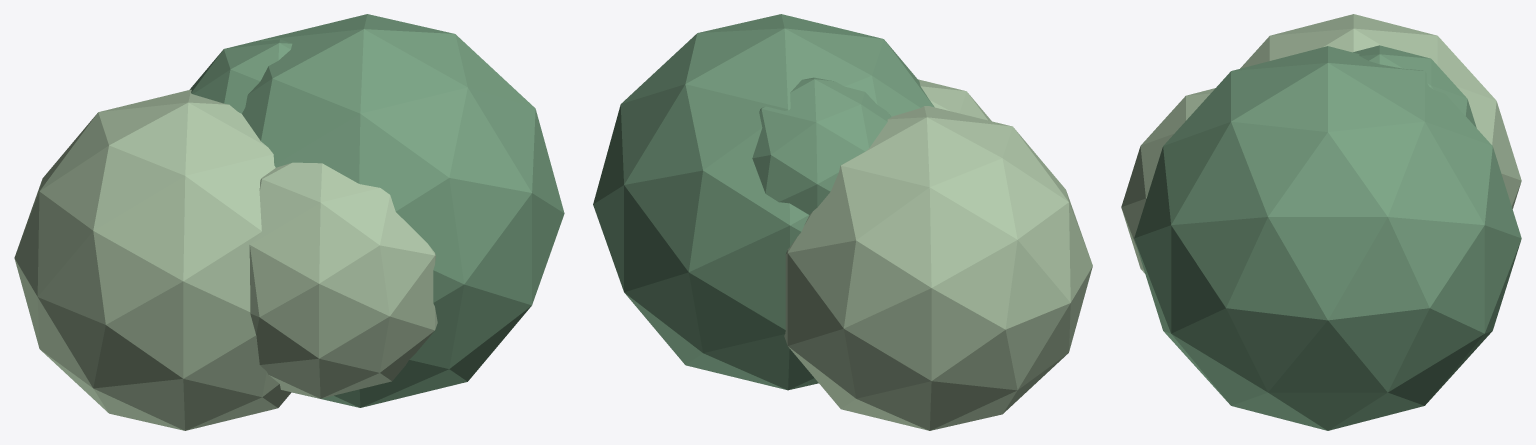
The model's file is shrub.glb.
The picture shows the model from 3 angles, left to right: view 1: azimuth 30°, elevation 25°; view 2: azimuth 150°, elevation 25°; view 3: azimuth 270°, elevation 25°; orthographic projection. The views are drawn at different scales.
Parts seen in each view (by area): view 1: p000, p001, p002, p003; view 2: p000, p001, p003, p002; view 3: p001, p000, p002, p003.
Boxes of the visible parts, x1,y1,x2,y2 form: p000: (14,89,291,430); p001: (242,14,564,407); p002: (249,162,437,398); p003: (189,39,292,113); p000: (784,106,1092,430); p001: (593,14,934,390); p003: (752,77,891,214); p002: (918,79,991,121); p001: (1134,46,1521,430); p000: (1240,14,1521,208); p002: (1121,88,1215,273); p003: (1353,45,1476,127).
Bounding box in the file's own units: 2.1 × 1.5 × 1.55.
